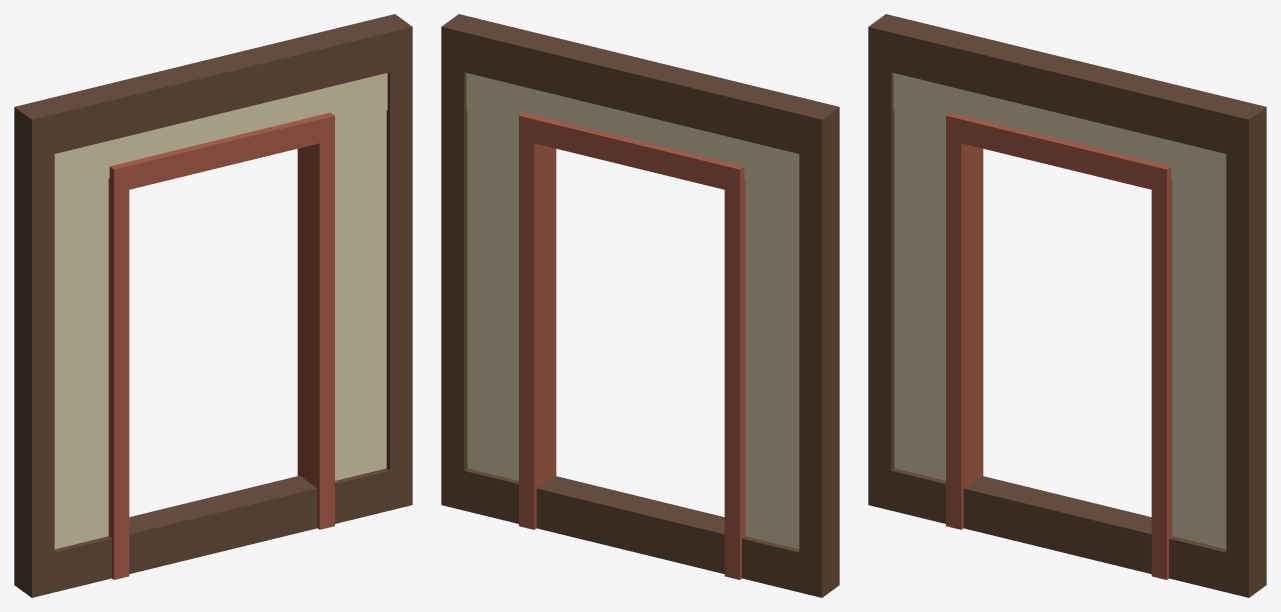
File: doorway.glb
The picture shows the model from 3 angles, left to right: view 1: azimuth 30°, elevation 25°; view 2: azimuth 150°, elevation 25°; view 3: azimuth 330°, elevation 25°; orthographic projection.
Parts seen in each view (by area): view 1: doorway; view 2: doorway; view 3: doorway.
Part boxes in pixels (x1,y1,x2,y2): doorway: [14, 14, 412, 597]; doorway: [441, 14, 839, 597]; doorway: [868, 14, 1266, 597].
Size of the model in its own units: 2 by 2.4 by 0.2.
